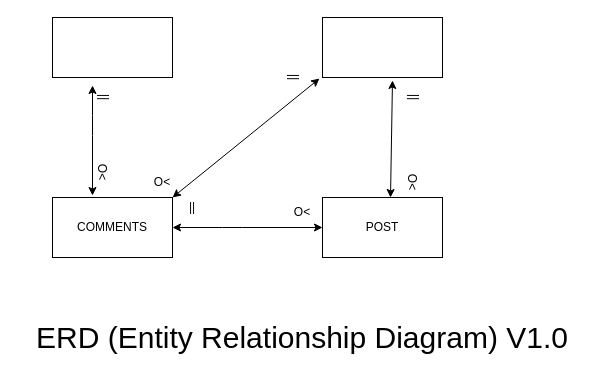
This 604x373 diagram has some shape labels left out. The centre of each missing label's shape, as x and y in pixels:
"ADMIN" belongs at pixel 382 47.
"USERS" belongs at pixel 112 47.
